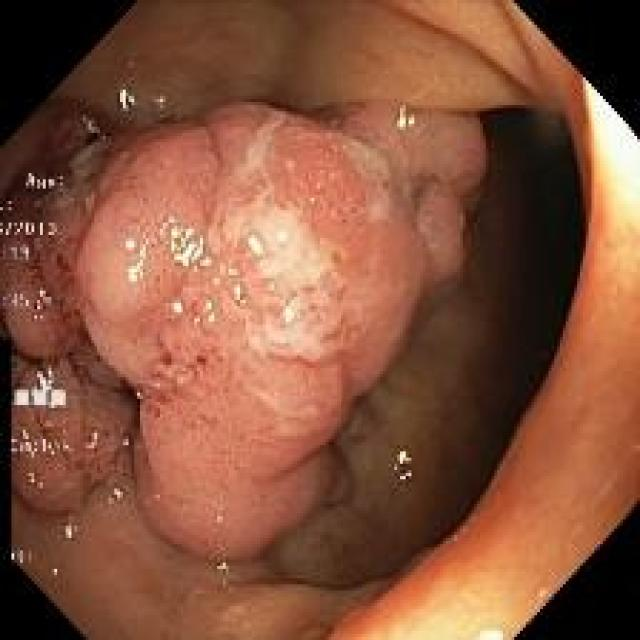Polyps: (0, 103, 489, 563)
